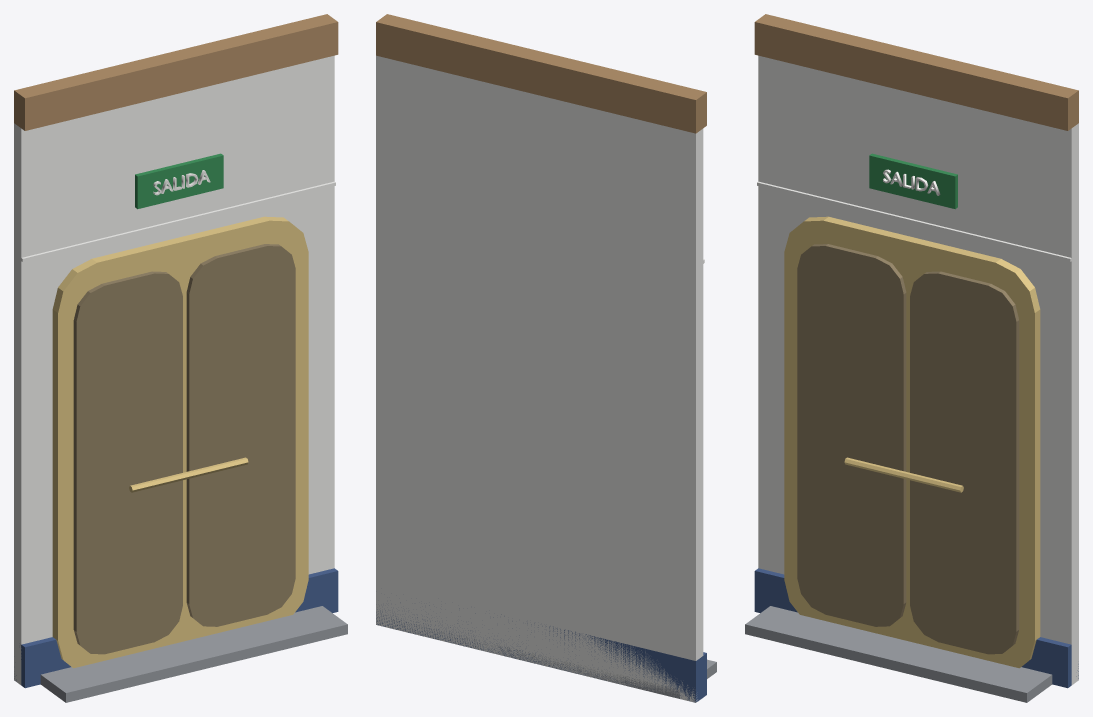
The model's file is CR_Fachada_B.fbx.
3 views of the same model, side by side, from view 1: azimuth 30°, elevation 25°; view 2: azimuth 150°, elevation 25°; view 3: azimuth 330°, elevation 25° (orthographic). The views are drawn at different scales.
Visible parts, largest first — view 1: CR_Fachada_B; view 2: CR_Fachada_B; view 3: CR_Fachada_B.
Boxes of the visible parts, <box> form: CR_Fachada_B: <box>14,14,347,702</box>; CR_Fachada_B: <box>376,14,716,702</box>; CR_Fachada_B: <box>745,14,1078,702</box>.
Bounding box in the file's own units: 2 × 3.6 × 0.4.
